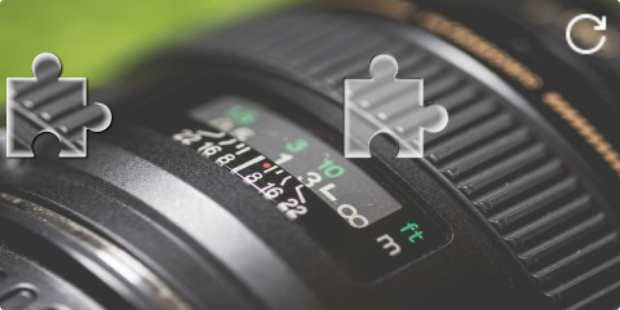target: (344, 53, 449, 157)
